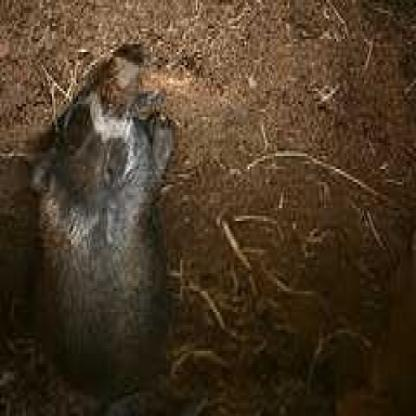boar: (18, 52, 188, 385)
